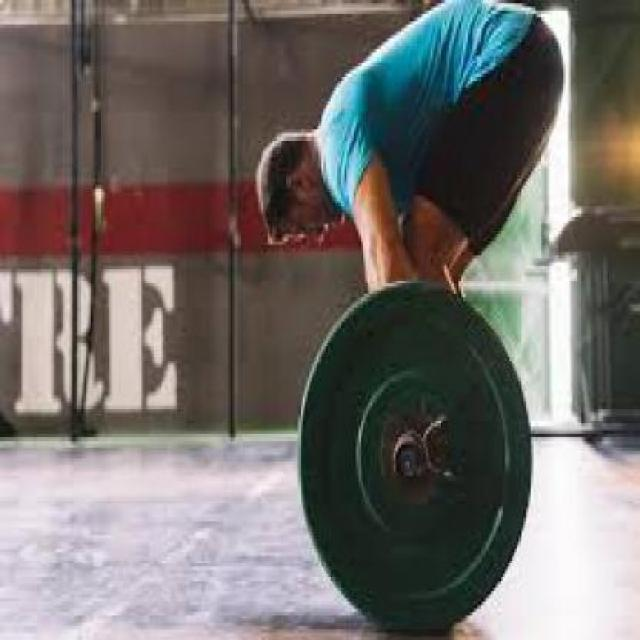barbell: (288, 278, 540, 640)
